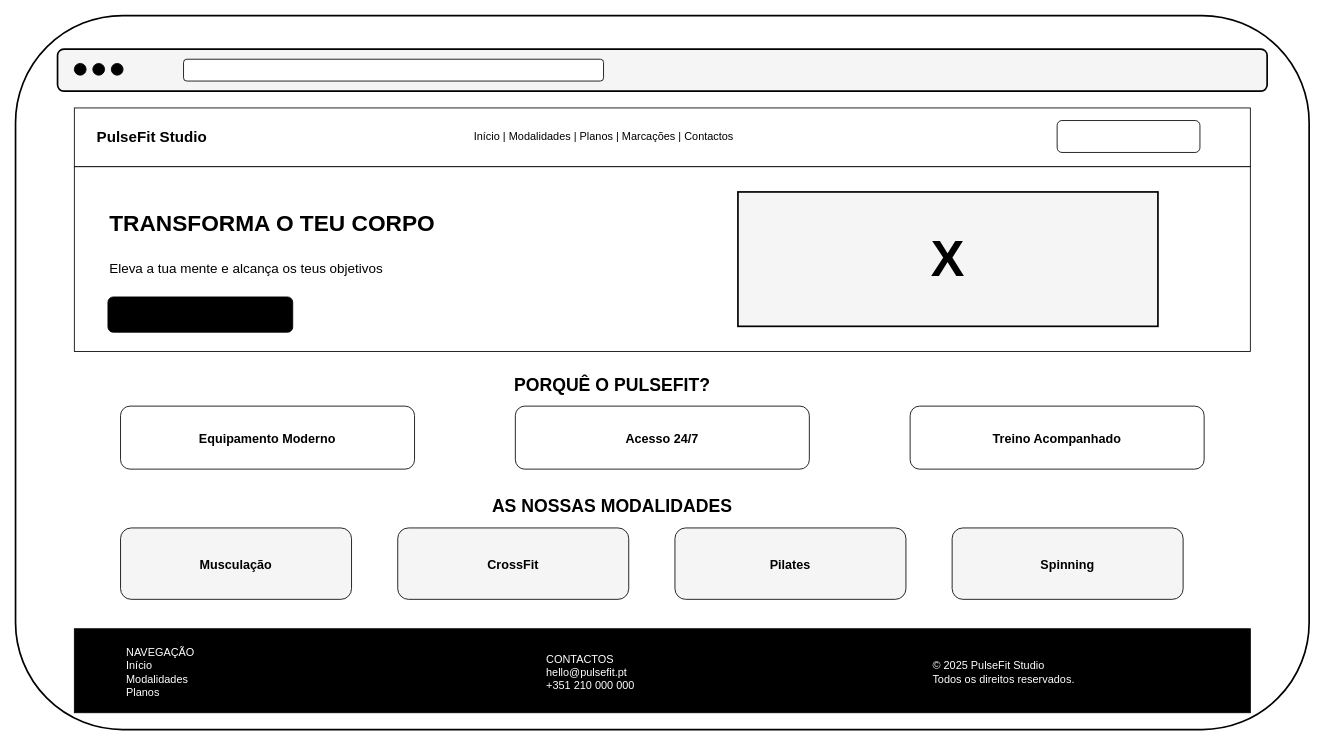
Image size: 1324x744. Some labels were removed from this diagram. The shapes that lost their labels are listed below. From the top down, each one's centre as x and y in pixels, then its label:
At (x=393, y=69): "pulsefitstudio.pt".
At (x=1128, y=136): "[ Aderir Já ]".
At (x=200, y=314): "[ EXPERIMENTA GRÁTIS ]".
